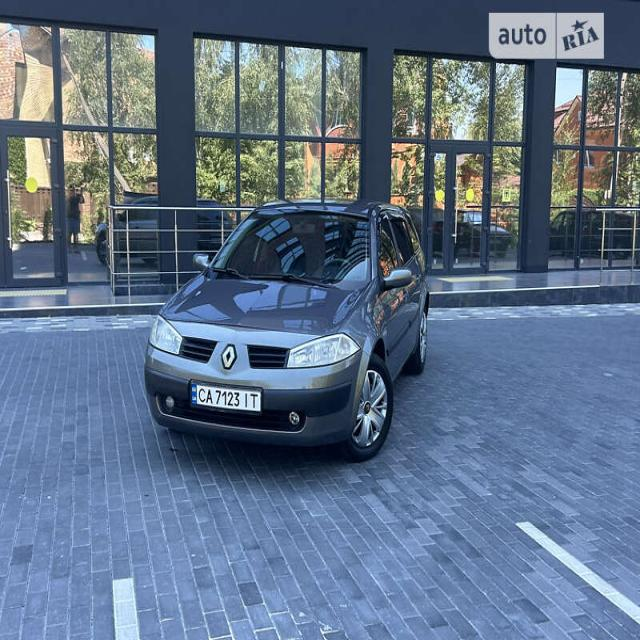plate: (190, 373, 267, 416)
